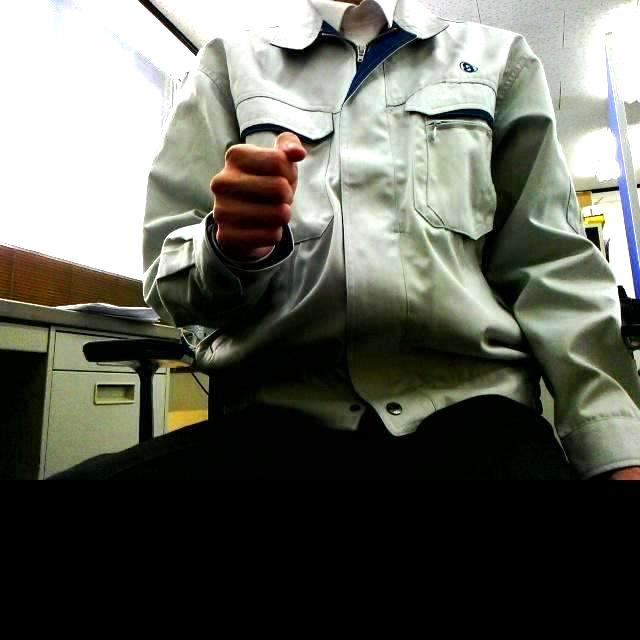gu-: (211, 132, 305, 248)
